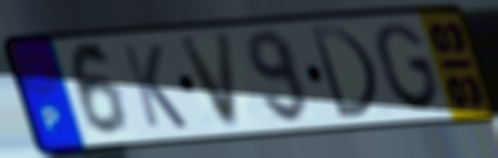6: (66, 38, 133, 144)
9: (245, 26, 313, 127)
D: (306, 23, 382, 121)
G: (372, 19, 444, 114)
K: (118, 42, 192, 131)
V: (176, 30, 242, 133)
